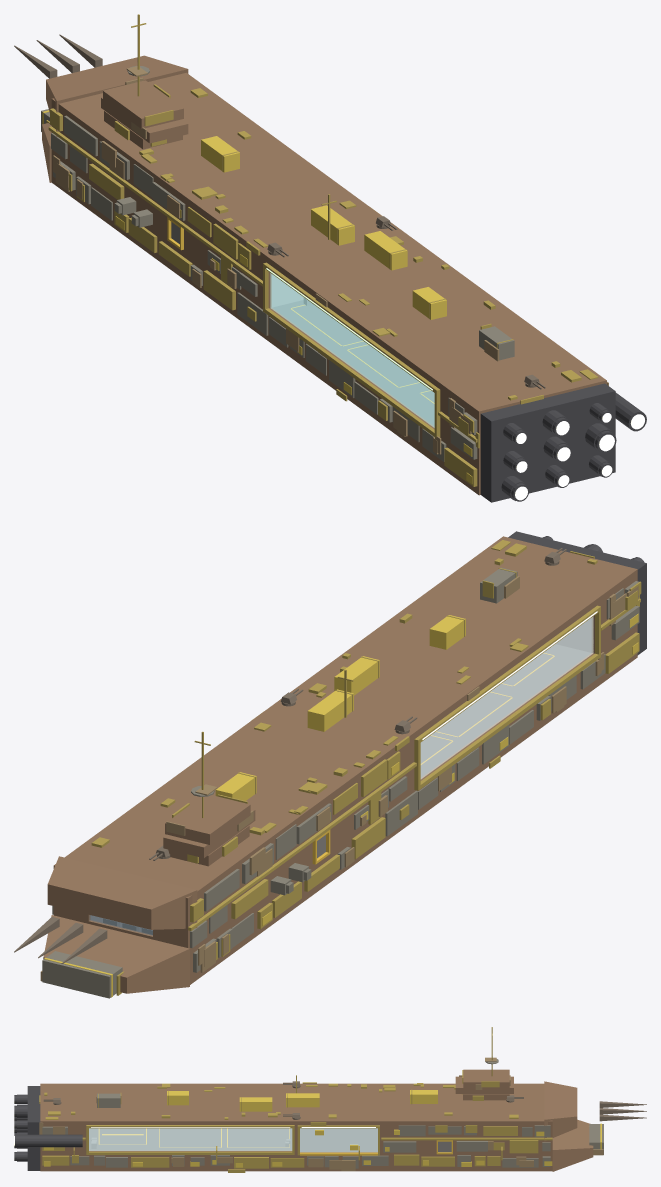
The model's file is ship_MEDIUM_v2.glb.
3 renders of one model, top to bottom at view 1: azimuth 30°, elevation 25°; view 2: azimuth 150°, elevation 25°; view 3: azimuth 270°, elevation 25°, orthographic. The views are drawn at different scales.
Visible parts, largest first — view 1: MEDIUM_Hull-col, MEDIUM_Engines, MEDIUM_Trim, MEDIUM_Armor, MEDIUM_HangarShield_Port, MEDIUM_Decks-col, MEDIUM_Accent, MEDIUM_ScrapPlates, MEDIUM_ScrapTrim, MEDIUM_Details, MEDIUM_EngineGlow, MEDIUM_RamSpikes; view 2: MEDIUM_Hull-col, MEDIUM_Armor, MEDIUM_Trim, MEDIUM_HangarShield_Port, MEDIUM_Decks-col, MEDIUM_Accent, MEDIUM_ScrapPlates, MEDIUM_ScrapTrim, MEDIUM_Details, MEDIUM_Engines, MEDIUM_RamSpikes, MEDIUM_Hazard (+1 smaller); view 3: MEDIUM_Hull-col, MEDIUM_Trim, MEDIUM_HangarShield_Starboard, MEDIUM_Decks-col, MEDIUM_Armor, MEDIUM_Engines, MEDIUM_Accent, MEDIUM_CargoBayShield, MEDIUM_CargoBayDoor-col, MEDIUM_ScrapPlates, MEDIUM_Details, MEDIUM_Hazard (+3 smaller).
Part boxes in pixels (x1,y1,x2,y2): MEDIUM_Hull-col: [42, 55, 606, 495]; MEDIUM_Engines: [480, 383, 646, 502]; MEDIUM_Trim: [48, 62, 513, 486]; MEDIUM_Armor: [41, 65, 514, 461]; MEDIUM_HangarShield_Port: [270, 273, 434, 427]; MEDIUM_Decks-col: [272, 300, 434, 426]; MEDIUM_Accent: [42, 110, 472, 483]; MEDIUM_ScrapPlates: [53, 66, 608, 454]; MEDIUM_ScrapTrim: [46, 14, 543, 448]; MEDIUM_Details: [139, 88, 598, 400]; MEDIUM_EngineGlow: [515, 413, 644, 500]; MEDIUM_RamSpikes: [14, 34, 102, 78]; MEDIUM_Hull-col: [43, 536, 637, 993]; MEDIUM_Armor: [42, 567, 639, 998]; MEDIUM_Trim: [188, 568, 640, 930]; MEDIUM_HangarShield_Port: [420, 616, 593, 778]; MEDIUM_Decks-col: [90, 644, 590, 931]; MEDIUM_Accent: [44, 613, 638, 997]; MEDIUM_ScrapPlates: [40, 576, 638, 981]; MEDIUM_ScrapTrim: [116, 551, 641, 995]; MEDIUM_Details: [91, 540, 597, 847]; MEDIUM_Engines: [508, 531, 646, 655]; MEDIUM_RamSpikes: [14, 917, 107, 963]; MEDIUM_Hazard: [312, 653, 554, 864]; MEDIUM_Hull-col: [40, 1069, 593, 1171]; MEDIUM_Trim: [42, 1056, 552, 1168]; MEDIUM_HangarShield_Starboard: [89, 1128, 292, 1150]; MEDIUM_Decks-col: [89, 1128, 292, 1150]; MEDIUM_Armor: [42, 1059, 603, 1168]; MEDIUM_Engines: [14, 1086, 82, 1170]; MEDIUM_Accent: [44, 1090, 601, 1167]; MEDIUM_CargoBayShield: [300, 1128, 377, 1152]; MEDIUM_CargoBayDoor-col: [300, 1128, 377, 1151]; MEDIUM_ScrapPlates: [39, 1057, 603, 1171]; MEDIUM_Details: [44, 1083, 518, 1119]; MEDIUM_Hazard: [98, 1128, 452, 1155].
Bounding box in the file's own units: 26.7 × 32.45 × 149.
